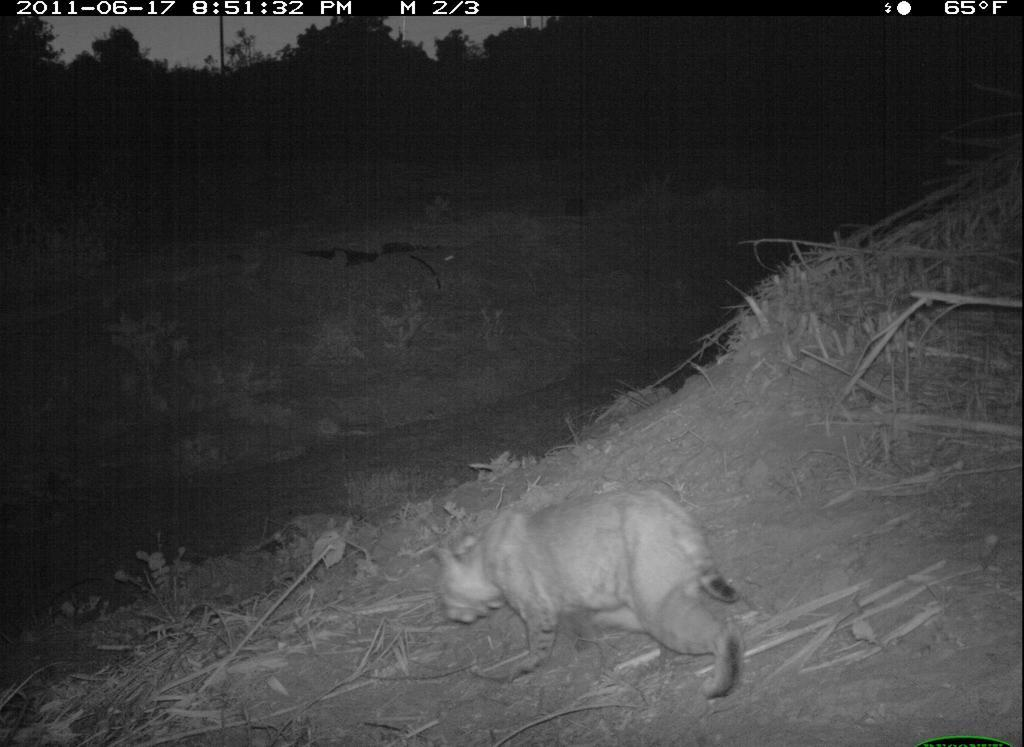bobcat: (431, 473, 749, 707)
